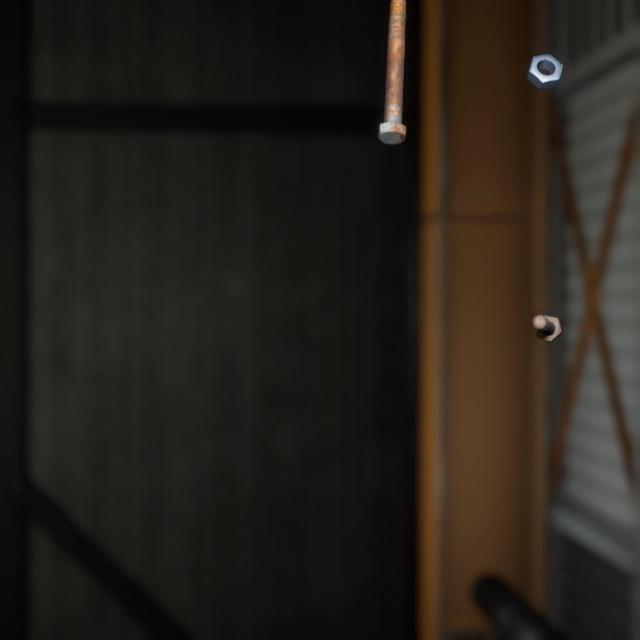bolt: (373, 0, 410, 139), (527, 291, 566, 329)
nut: (522, 39, 567, 83)
